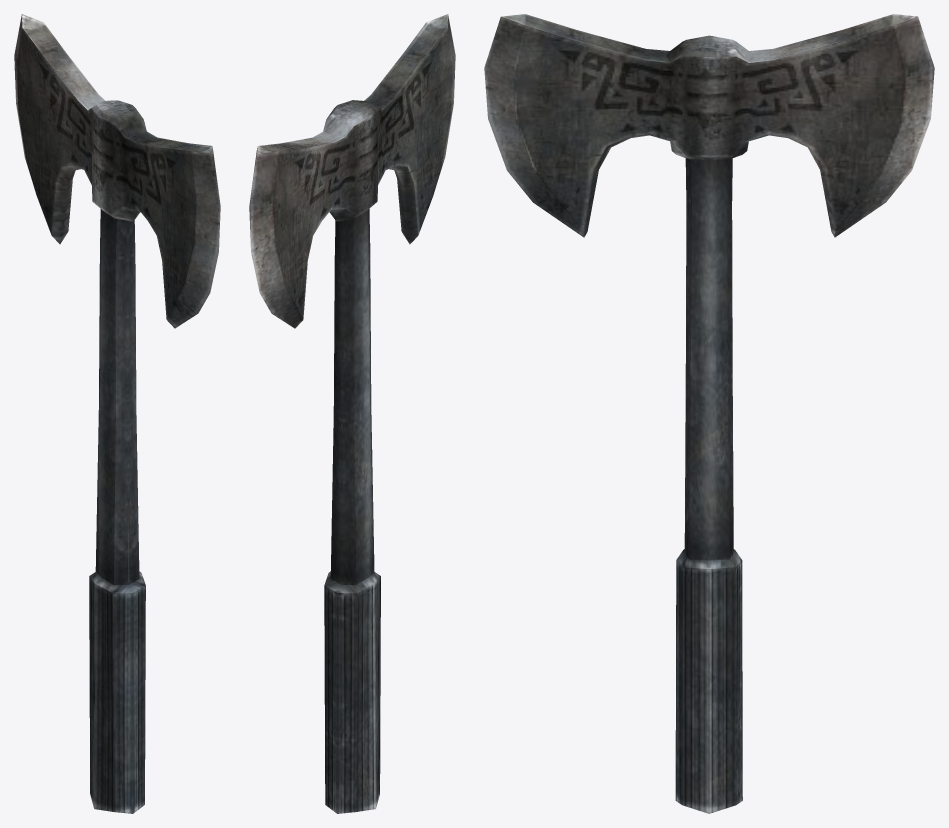
The model's file is weapons_axe06.glb.
3 views of the same model, side by side, from view 1: azimuth 30°, elevation 25°; view 2: azimuth 150°, elevation 25°; view 3: azimuth 270°, elevation 25° (orthographic). The views are drawn at different scales.
Visible parts, largest first — view 1: axe06; view 2: axe06; view 3: axe06.
Boxes of the visible parts, box(x1,y1,x2,y2) form: axe06: box(14, 14, 220, 813); axe06: box(249, 14, 455, 813); axe06: box(484, 14, 934, 813).
Size of the model in its own units: 0.0495 by 0.7223 by 0.3732.
1 material, 1 textured.
